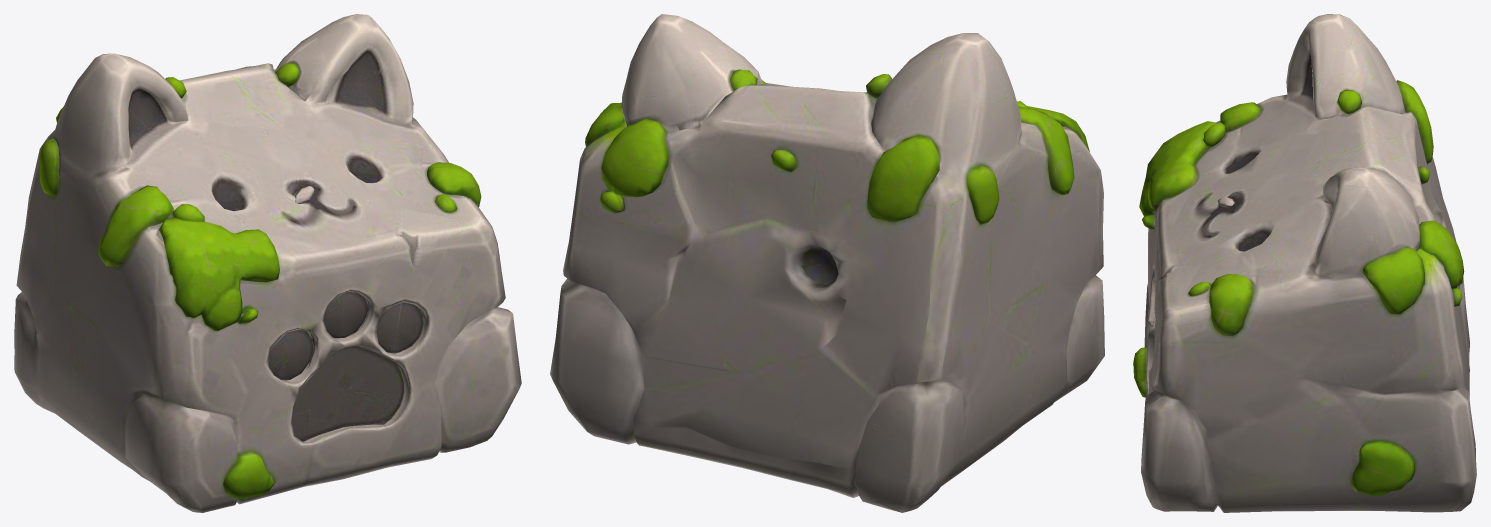
Rendered from cat.glb.
The picture shows the model from 3 angles, left to right: view 1: azimuth 30°, elevation 25°; view 2: azimuth 150°, elevation 25°; view 3: azimuth 270°, elevation 25°; orthographic projection. The views are drawn at different scales.
Size of the model in its own units: 1 by 1 by 0.842.
Materials: 1 (1 with a texture image).
